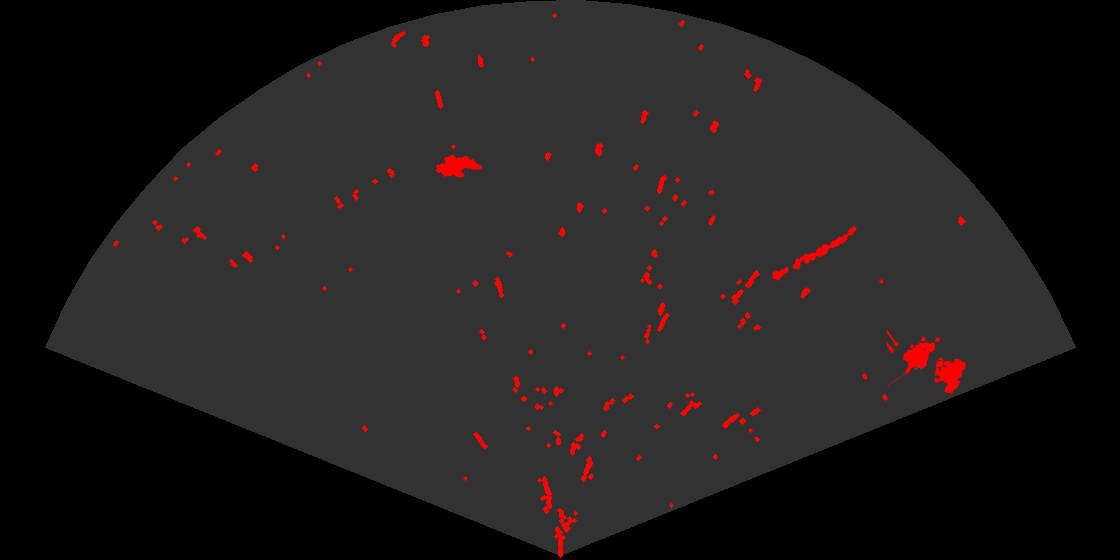AUV: (434, 153, 484, 179)
cage: (887, 329, 968, 395)
chain: (770, 225, 858, 282)
